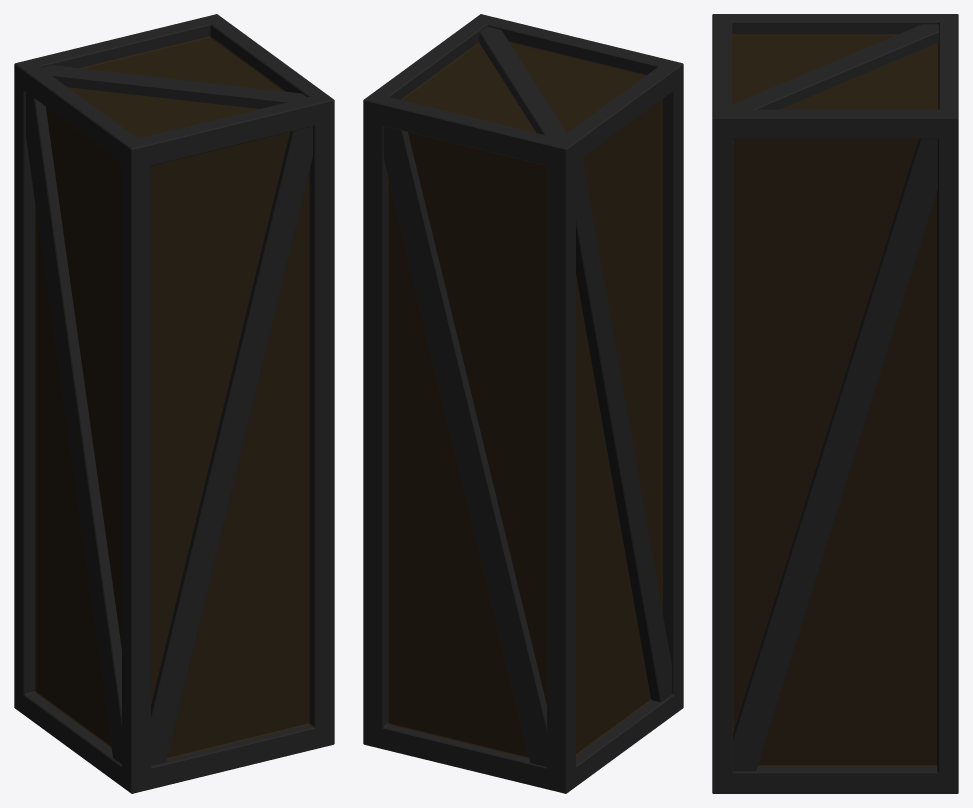
Rendered from Box_Tall.fbx.
The picture shows the model from 3 angles, left to right: view 1: azimuth 30°, elevation 25°; view 2: azimuth 150°, elevation 25°; view 3: azimuth 270°, elevation 25°; orthographic projection. The views are drawn at different scales.
Visible parts, largest first — view 1: Tall_Box; view 2: Tall_Box; view 3: Tall_Box.
Boxes of the visible parts, left/top/right/bottom form: Tall_Box: left=14, top=14, right=334, bottom=793; Tall_Box: left=363, top=14, right=683, bottom=793; Tall_Box: left=712, top=14, right=958, bottom=793.
Size of the model in its own units: 44.03 by 133 by 44.03.
